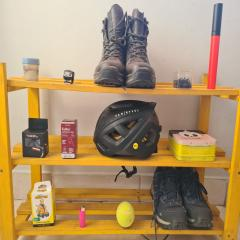bola: (117, 200, 136, 228)
bomba: (206, 3, 224, 89)
bota1: (94, 2, 158, 88)
bota2: (150, 166, 214, 231)
capacete: (92, 99, 160, 160)
cx-bike: (21, 117, 51, 158)
cx-ferro: (62, 118, 78, 158)
cx-magali: (168, 129, 218, 161)
cx-minions: (30, 181, 58, 227)
cx-xuxa: (173, 70, 192, 89)
isqueiro: (78, 206, 88, 229)
luz: (63, 68, 74, 84)
pote: (22, 56, 40, 82)
